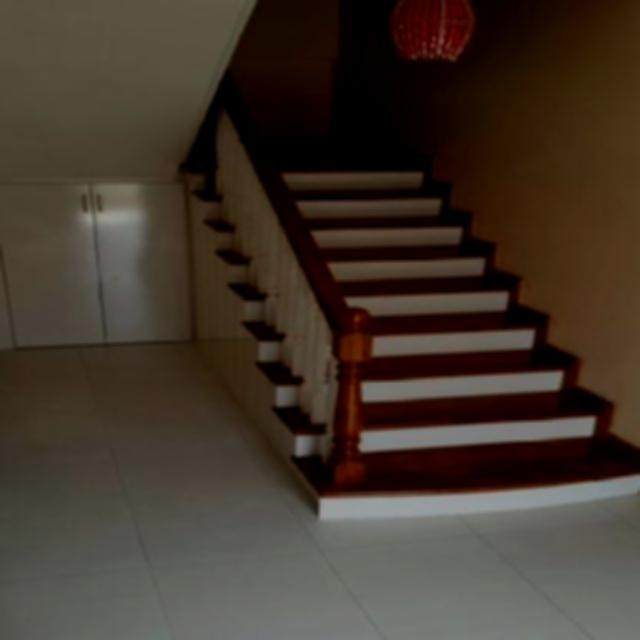stair: (158, 88, 640, 514)
